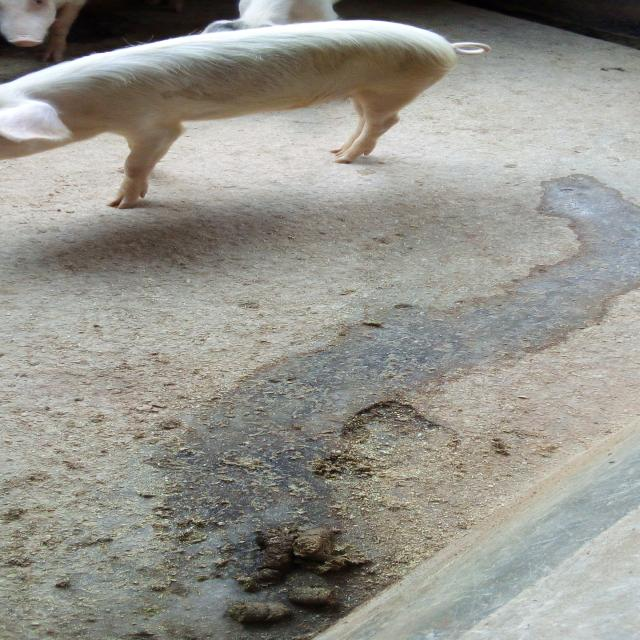pig: (0, 12, 534, 239)
